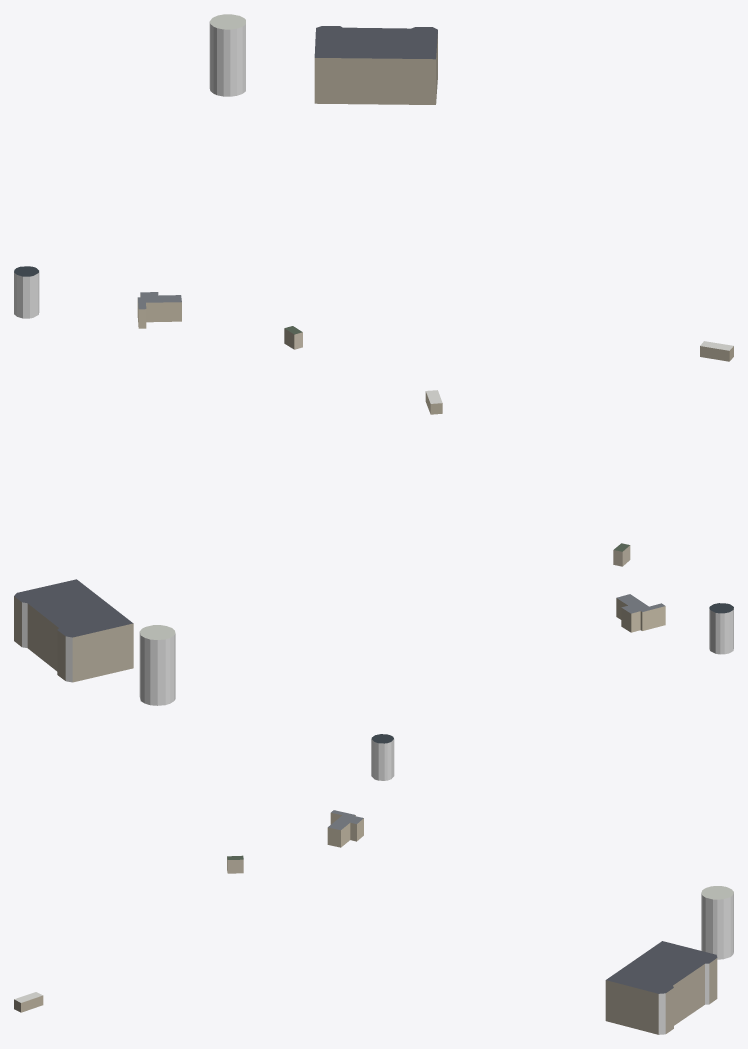
The picture shows the model from 3 angles, top to bottom: view 1: azimuth 30°, elevation 25°; view 2: azimuth 150°, elevation 25°; view 3: azimuth 270°, elevation 25°; orthographic projection. The views are drawn at different scales.
Visible parts, largest first — view 1: tuile; view 2: tuile; view 3: tuile.
Boxes of the visible parts, x1,y1,x2,y2 form: tuile: [14, 14, 733, 361]; tuile: [14, 390, 733, 705]; tuile: [14, 734, 733, 1034].
Bounding box in the file's own units: 191 × 24.61 × 231.
